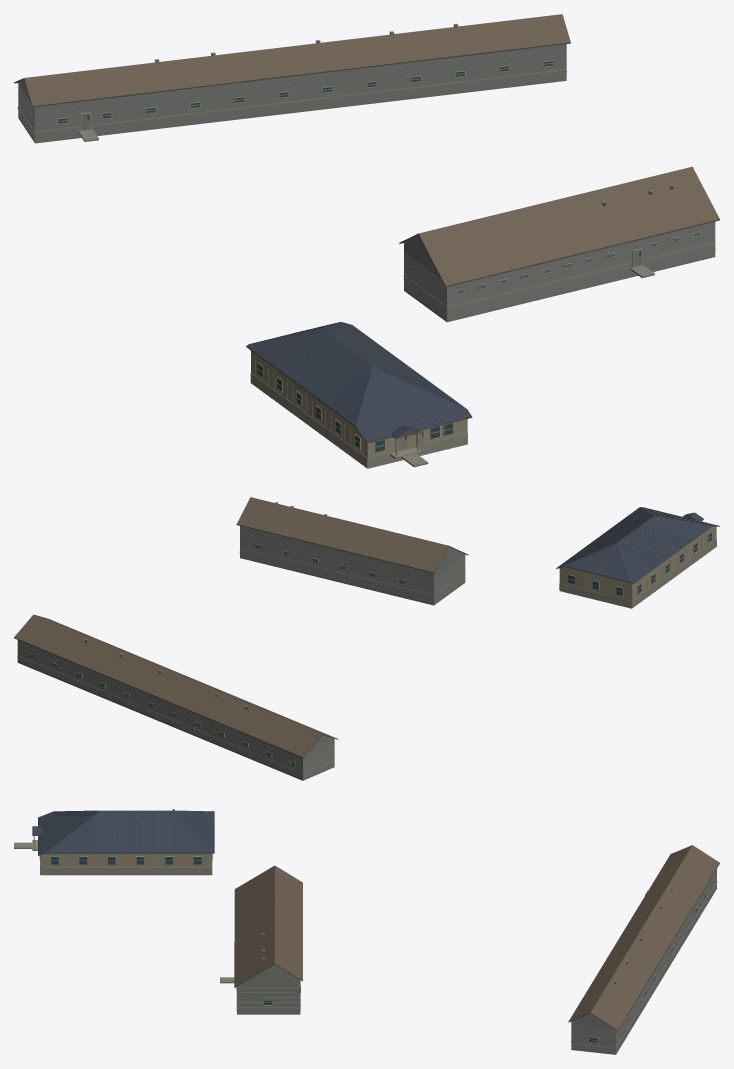
Rendered from site.glb.
3 renders of one model, top to bottom at view 1: azimuth 30°, elevation 25°; view 2: azimuth 150°, elevation 25°; view 3: azimuth 270°, elevation 25°, orthographic. The views are drawn at different scales.
Parts seen in each view (by area): view 1: roof-38958a7f, roof-ce1d33a1, roof-4cf339e8, east-station-frontages; view 2: roof-38958a7f, roof-ce1d33a1, roof-4cf339e8; view 3: roof-38958a7f, roof-4cf339e8, roof-ce1d33a1.
Part boxes in pixels (x1,y1,x2,y2): roof-38958a7f: (14,14,570,143); roof-ce1d33a1: (399,166,719,322); roof-4cf339e8: (246,322,472,468); east-station-frontages: (78,129,654,467); roof-38958a7f: (14,614,338,780); roof-ce1d33a1: (236,497,468,605); roof-4cf339e8: (556,507,719,608); roof-38958a7f: (568,845,719,1054); roof-4cf339e8: (32,809,214,875); roof-ce1d33a1: (234,865,302,1014).
Bounding box in the file's own units: 79.21 × 10.51 × 114.
